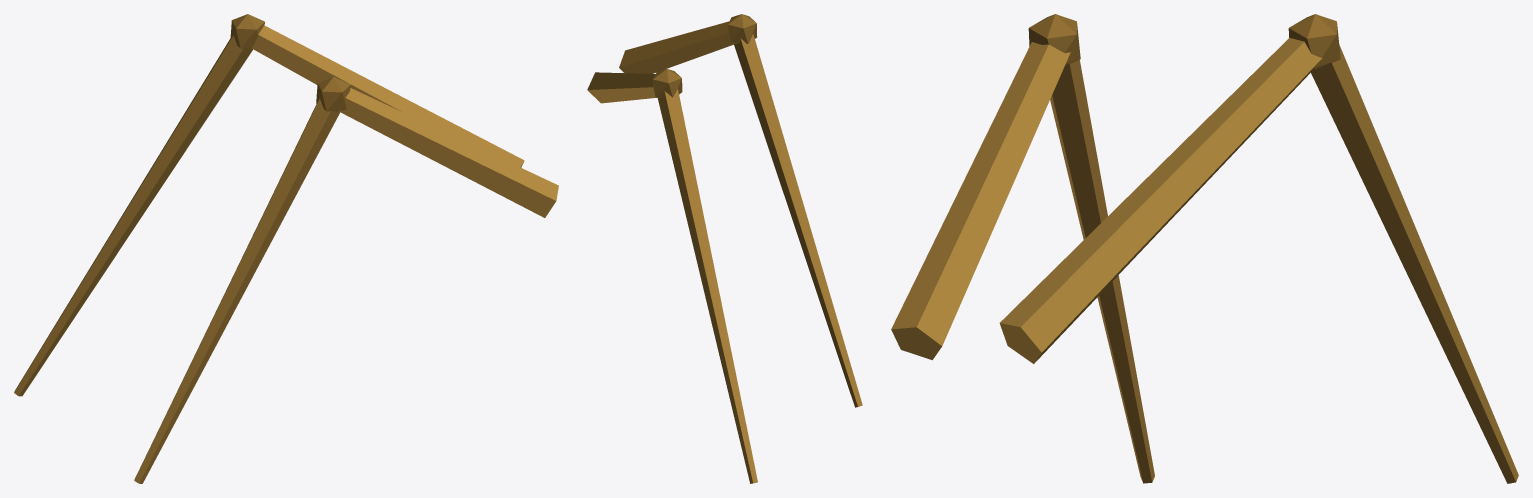
Rendered from spider_3_leg_br.glb.
3 renders of one model, left to right at view 1: azimuth 30°, elevation 25°; view 2: azimuth 150°, elevation 25°; view 3: azimuth 270°, elevation 25°, orthographic. The views are drawn at different scales.
Parts seen in each view (by area): view 1: spider_3_leg_br; view 2: spider_3_leg_br; view 3: spider_3_leg_br.
Boxes of the visible parts, x1,y1,x2,y2 form: spider_3_leg_br: (14,14,558,483); spider_3_leg_br: (587,14,862,483); spider_3_leg_br: (891,14,1518,483).
Bounding box in the file's own units: 0.6376 × 0.6759 × 0.6519.
